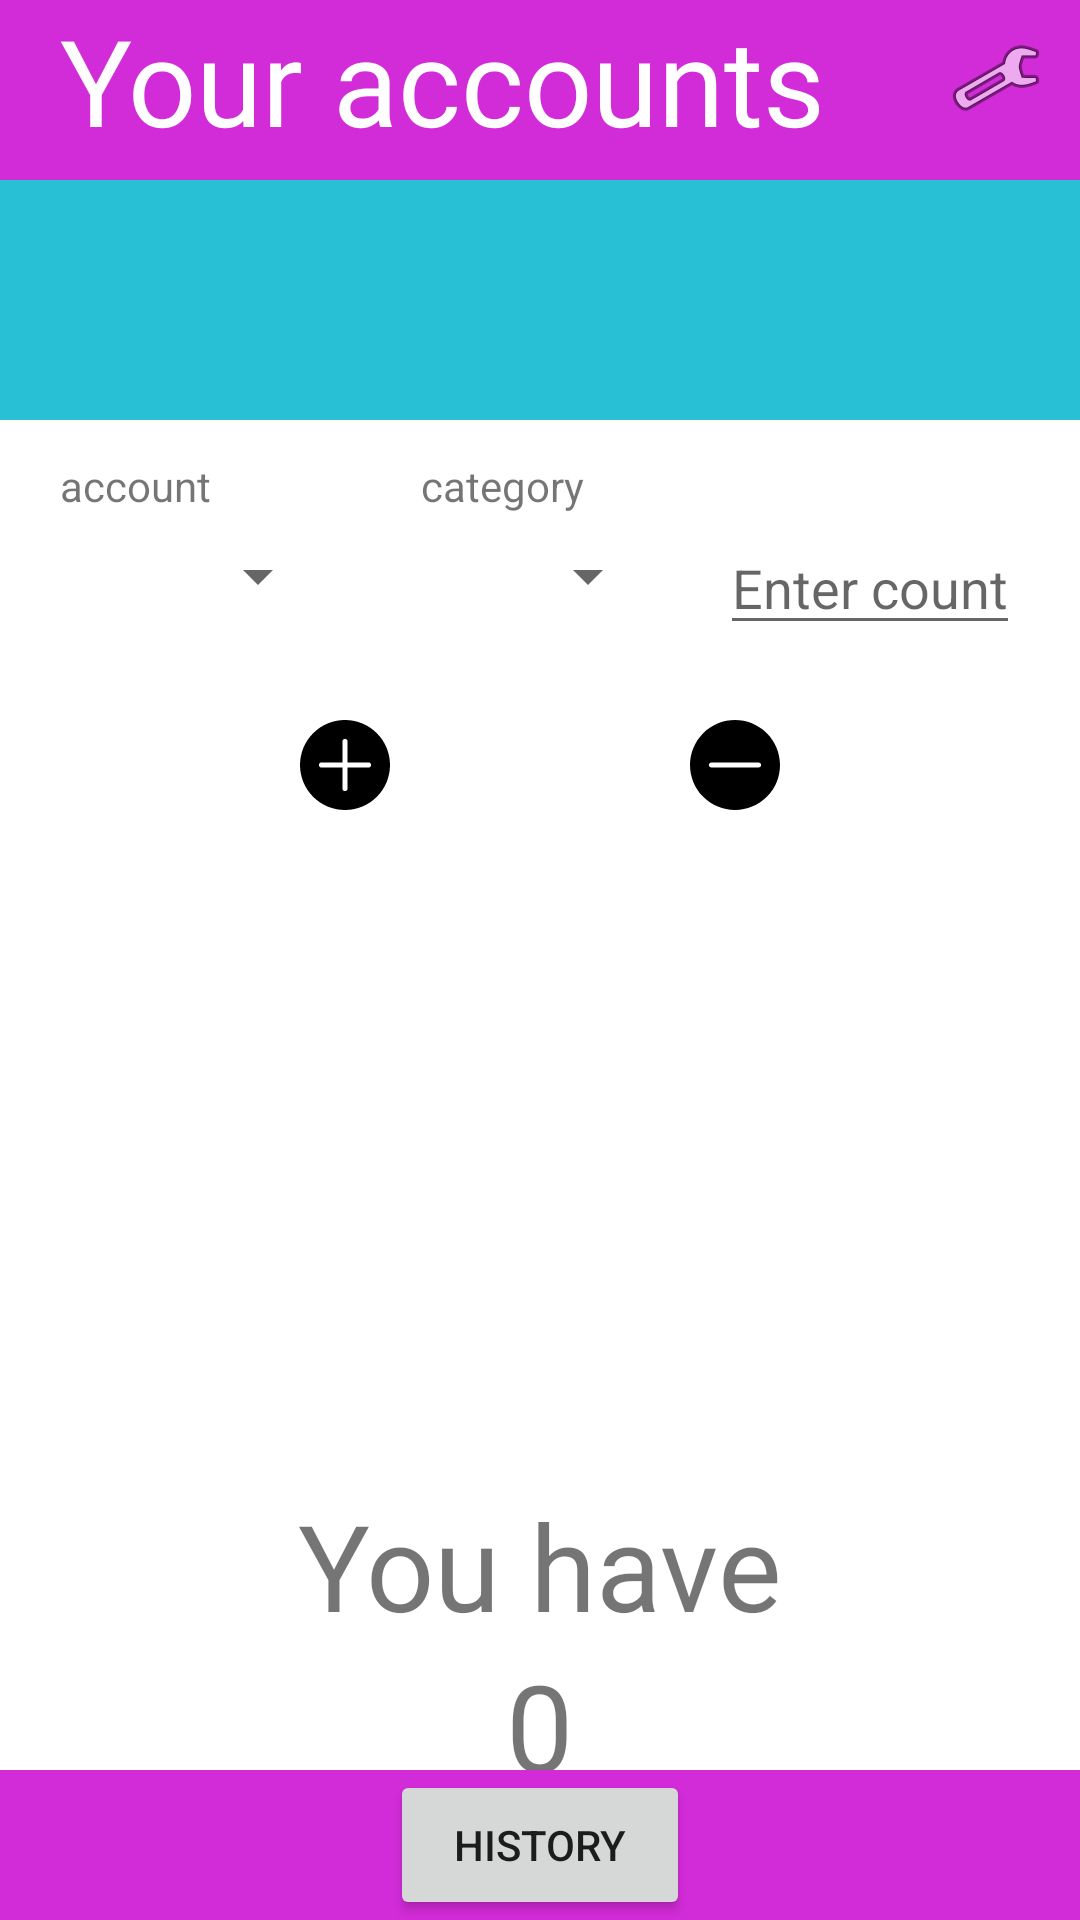

Icon click points for this 1080w x 1920h phone screenshot, format (x,y):
Add Expense: (735,765)
Add Profit: (345,765)
Settings: (996,78)
